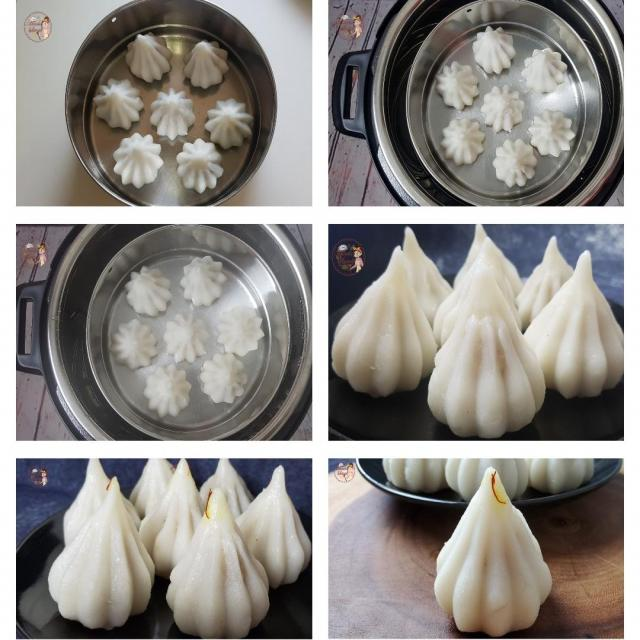modak: (425, 472, 556, 640), (518, 234, 634, 417), (427, 259, 544, 440), (159, 486, 273, 622), (340, 250, 436, 410), (49, 485, 147, 626), (107, 128, 170, 196), (188, 350, 253, 414), (109, 31, 177, 90), (173, 134, 229, 204), (458, 15, 520, 77), (206, 302, 266, 365), (92, 81, 154, 136), (140, 368, 205, 418), (179, 34, 228, 100), (208, 86, 256, 152), (527, 105, 579, 163), (114, 312, 163, 368), (163, 307, 210, 365), (152, 85, 198, 144), (179, 251, 226, 308), (120, 269, 176, 316), (440, 110, 486, 166), (434, 63, 483, 114), (519, 42, 566, 95), (480, 81, 526, 130), (495, 142, 538, 191)
